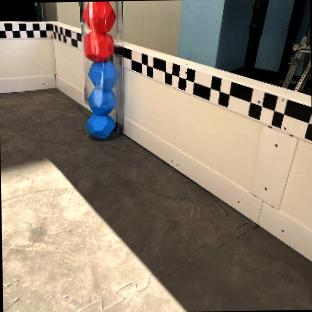Loader: (80, 1, 119, 138)
V5_BLUE: (87, 61, 117, 138)
V5_RED: (82, 1, 115, 60), (84, 30, 113, 60)
